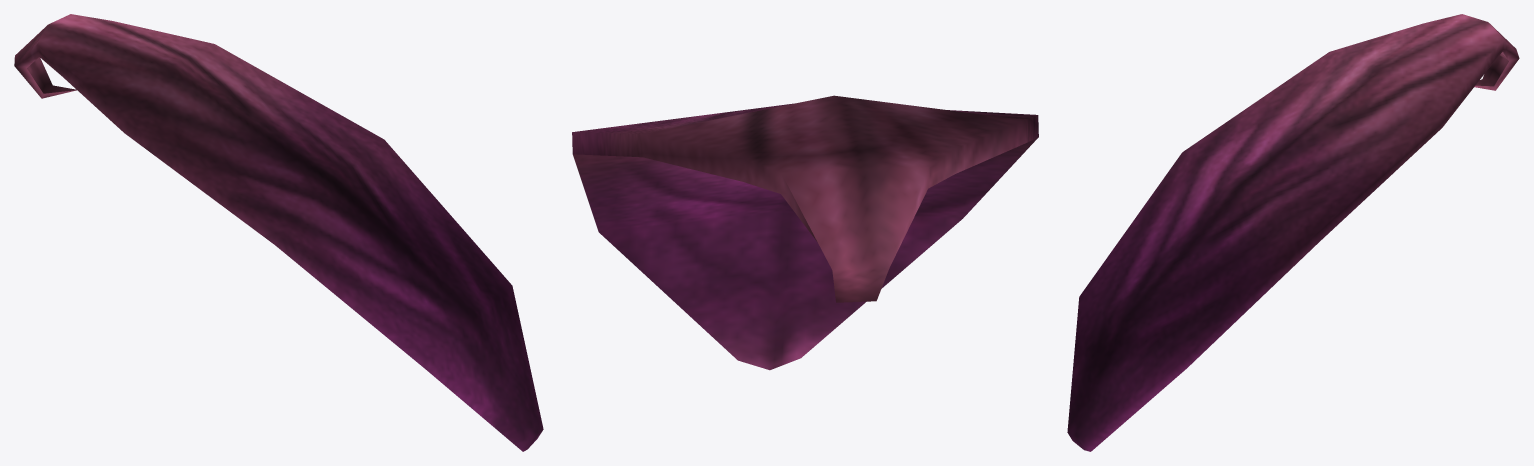
The model's file is Leaf_Coloured.FBX.
3 views of the same model, side by side, from view 1: azimuth 30°, elevation 25°; view 2: azimuth 150°, elevation 25°; view 3: azimuth 270°, elevation 25° (orthographic). The views are drawn at different scales.
Parts seen in each view (by area): view 1: Leaf_Coloured; view 2: Leaf_Coloured; view 3: Leaf_Coloured.
Boxes of the visible parts, x1,y1,x2,y2 form: Leaf_Coloured: (14,14,543,451); Leaf_Coloured: (572,95,1038,370); Leaf_Coloured: (1067,14,1519,451).
Size of the model in its own units: 346 by 334 by 443.
